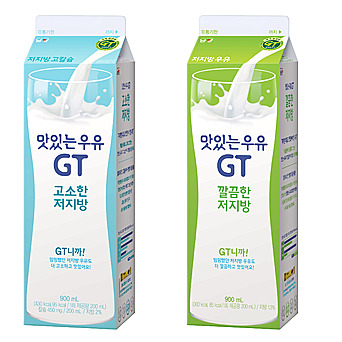milk: (187, 15, 299, 330), (24, 15, 136, 329)
